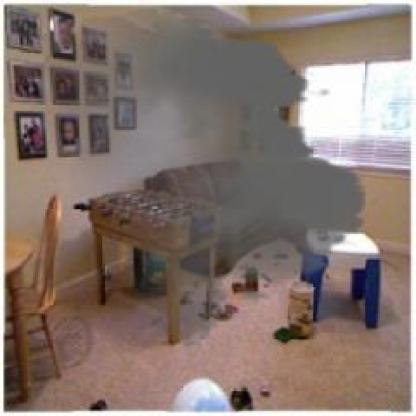Smoke: (18, 10, 379, 349)
